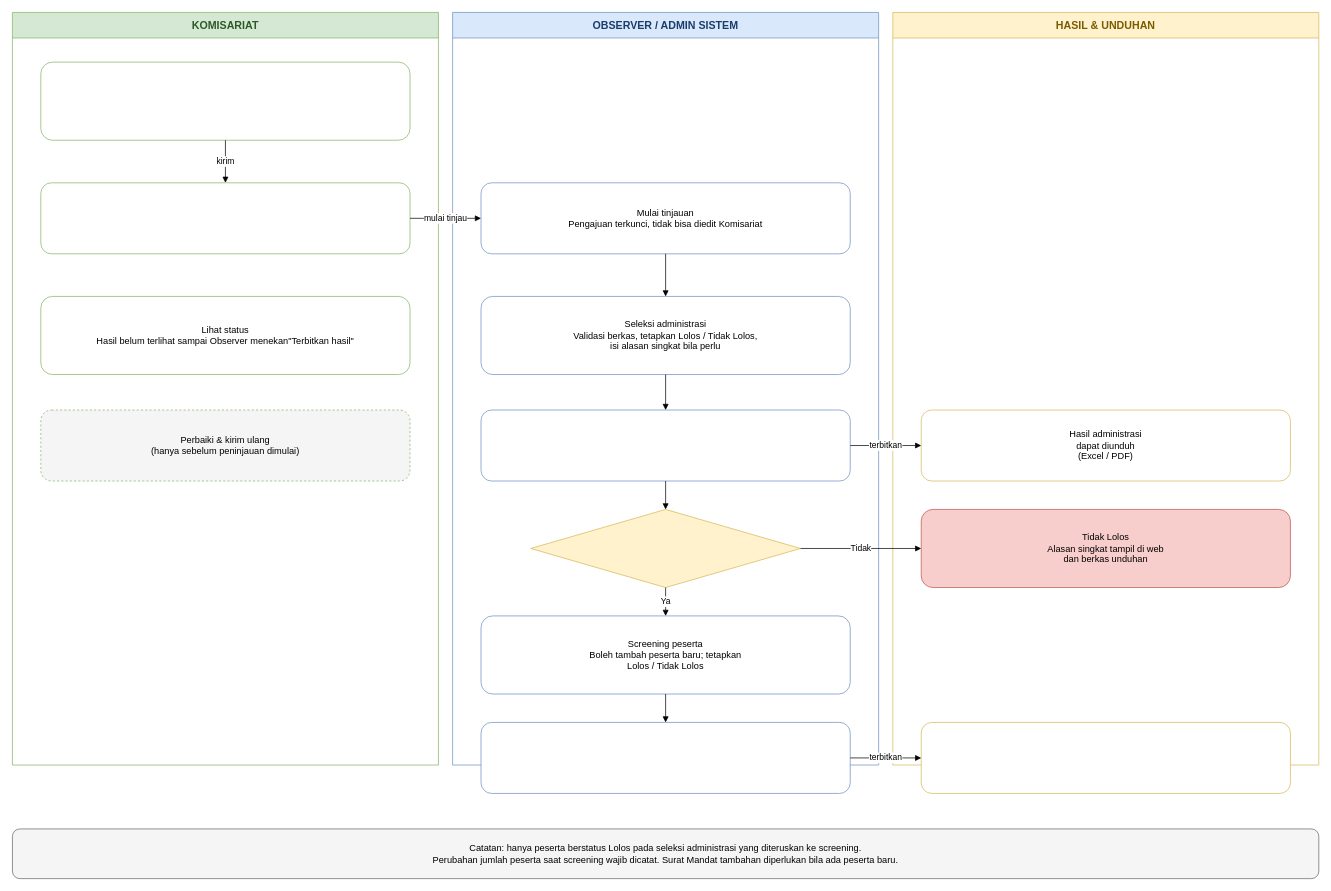
The diagram is 1331 pixels wide and 891 high, and some of its shapes have lost their labels. The centre of each missing label's shape, as x and y in pixels:
"Buat draf pengajuan beberapa peserta, 1 Surat Mandat, foto peserta opsional" goes at [225,100].
"Hasil screening dapat diunduh (Excel / PDF)" goes at [1105,757].
"Kirim pengajuan (sebelum ditinjau boleh dibatalkan & diubah)" goes at [225,218].
"Lolos administrasi?" goes at [665,548].
"Terbitkan hasil administrasi (aksi eksplisit Observer)" goes at [665,445].
"Terbitkan hasil screening Daftar peserta final untuk penilaian" goes at [665,757].
